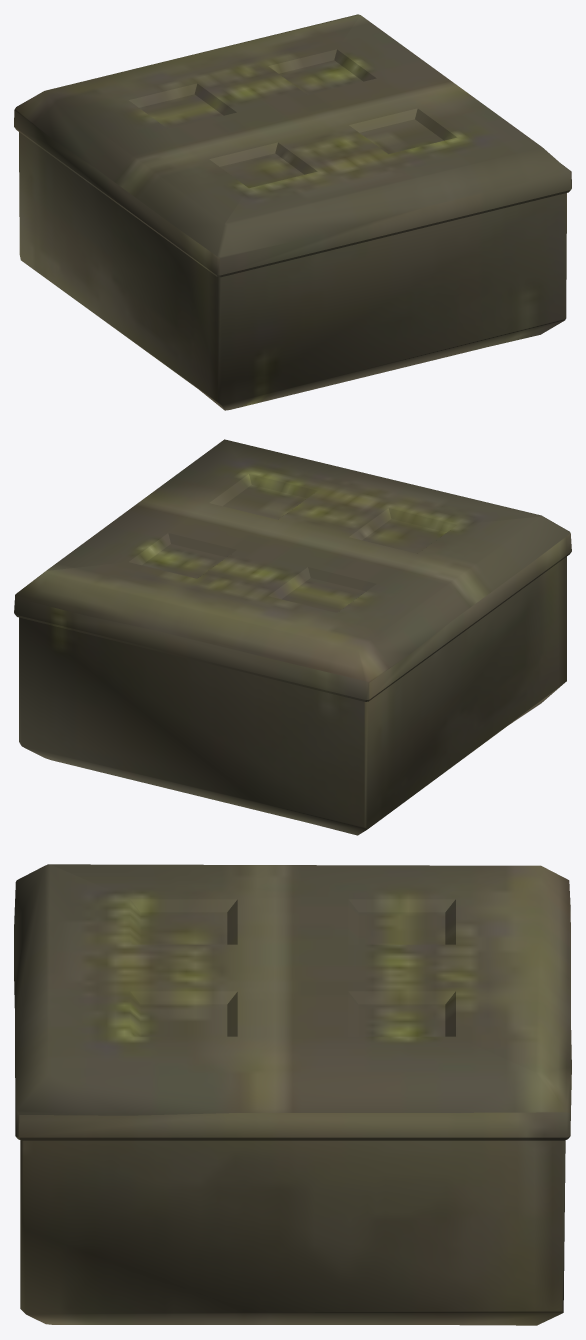
File: mb-ammo-box.lod1.glb
The picture shows the model from 3 angles, top to bottom: view 1: azimuth 30°, elevation 25°; view 2: azimuth 150°, elevation 25°; view 3: azimuth 270°, elevation 25°; orthographic projection. The views are drawn at different scales.
Visible parts, largest first — view 1: box; view 2: box; view 3: box.
Part boxes in pixels (x1=…): box: x1=14, y1=14, x2=571, y2=410; box: x1=14, y1=439, x2=571, y2=835; box: x1=14, y1=864, x2=571, y2=1325.
Bounding box in the file's own units: 0.619 × 0.312 × 0.619.
Materials: 1 (1 with a texture image).
